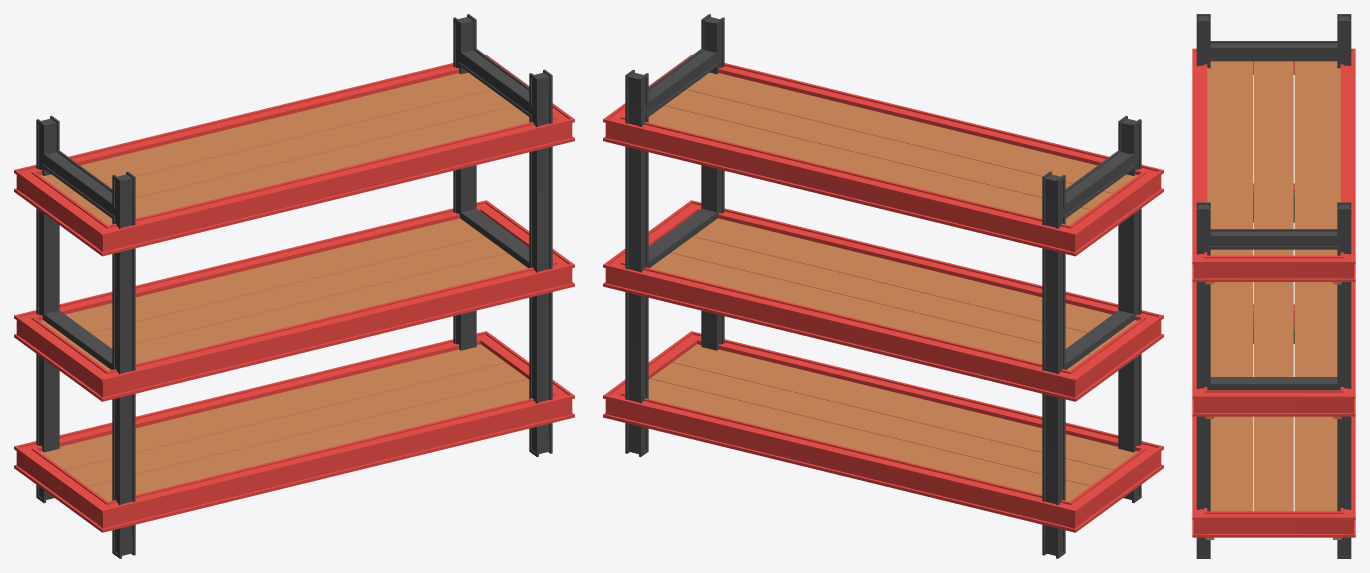
File: Props_BoxShelf_Red.fbx
3 views of the same model, side by side, from view 1: azimuth 30°, elevation 25°; view 2: azimuth 150°, elevation 25°; view 3: azimuth 270°, elevation 25° (orthographic). The views are drawn at different scales.
Parts seen in each view (by area): view 1: Props_BoxShelf_Red; view 2: Props_BoxShelf_Red; view 3: Props_BoxShelf_Red.
Boxes of the visible parts, x1,y1,x2,y2 form: Props_BoxShelf_Red: (14, 14, 574, 558); Props_BoxShelf_Red: (603, 14, 1163, 558); Props_BoxShelf_Red: (1192, 14, 1355, 558).
Bounding box in the file's own units: 340 × 260 × 110.
